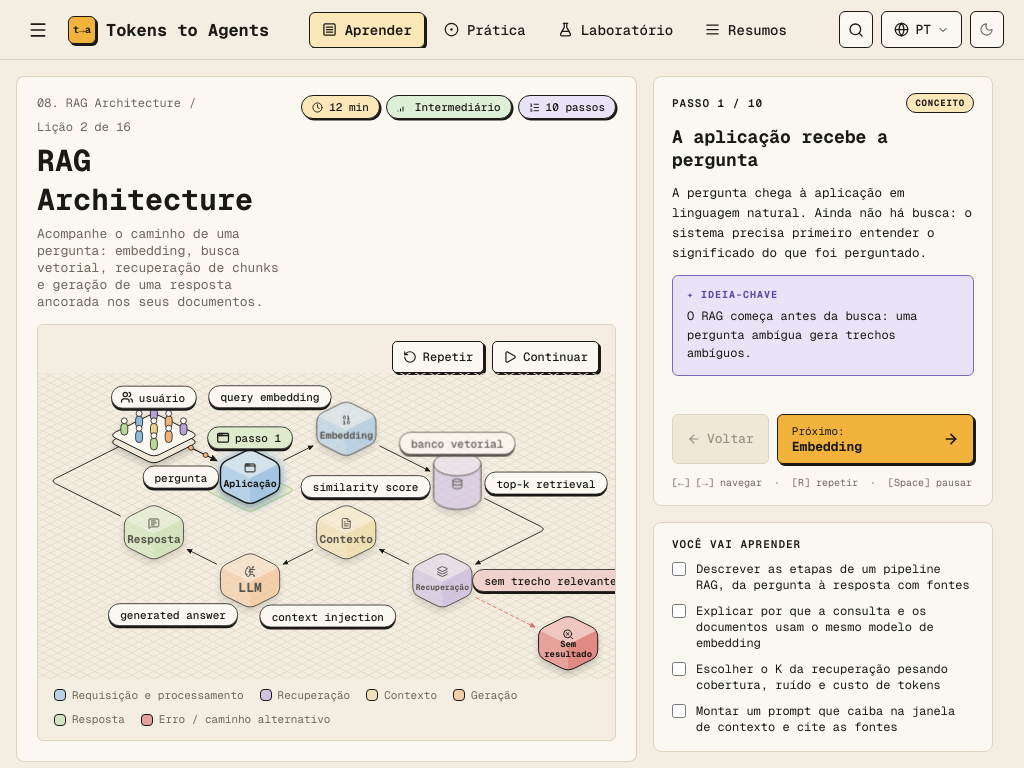
Test: App › volta ao passo anterior, e Repetir refaz a animação do passo atual sem sair dele (LES-01.7)
expect the heading "RAG Architecture" is shown: met, box [37,141,285,219]
What coordinates should you click on to do the following:
click the button "Próximo: Embedding"
I would click on:
 (875, 439)
Its box is [777,414,974,464].
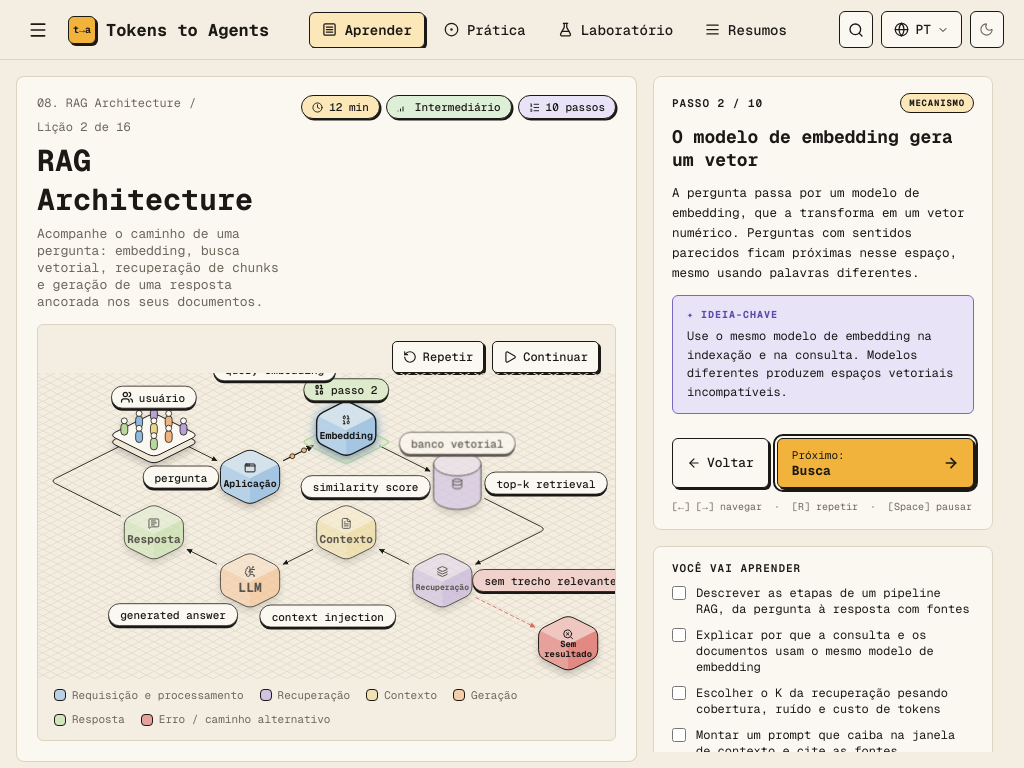
What coordinates should you click on to do the following:
click the button "Voltar"
I would click on:
 (720, 463)
Its box is [672,438,769,488].
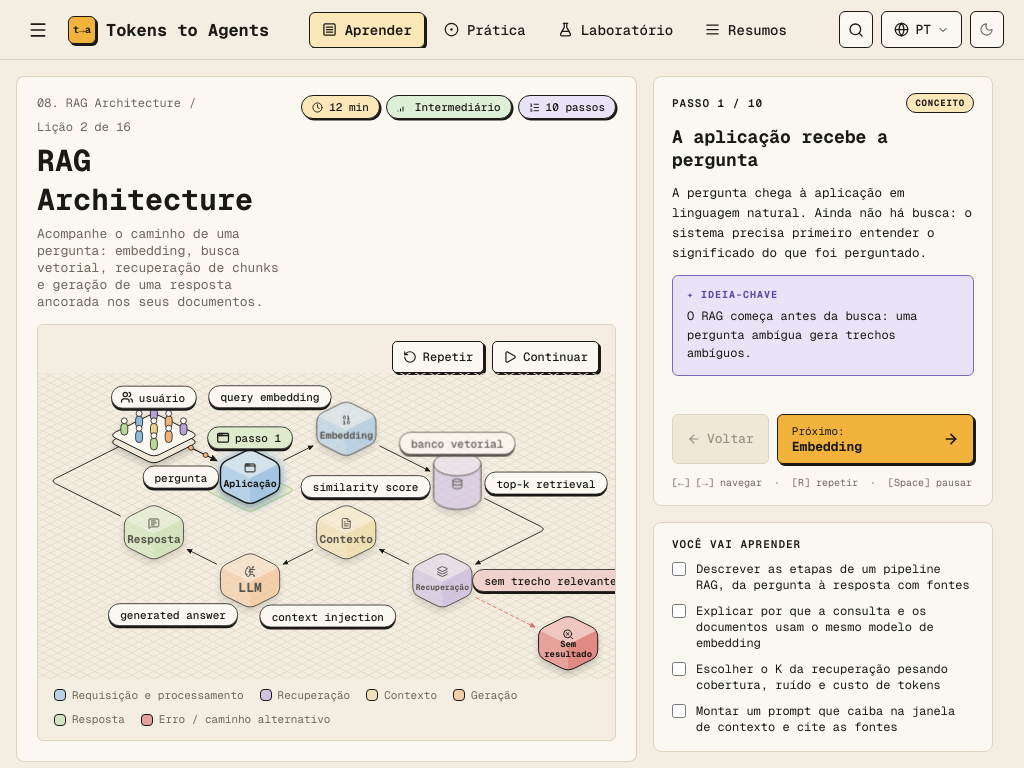
expect the text "Passo 1 / 10" is shown: met, box [672,96,763,110]
What coordinates should you click on to do the following:
click the button "Próximo: Embedding"
I would click on:
 (875, 439)
Its box is [777,414,974,464].
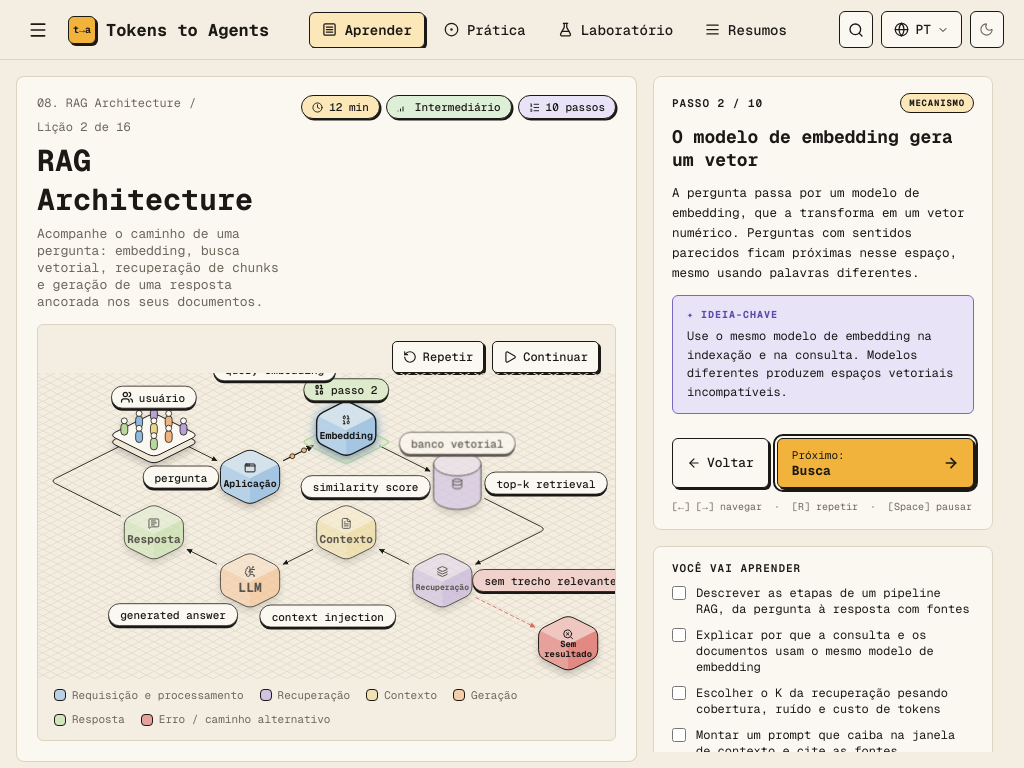
What coordinates should you click on to do the following:
click the button "Próximo: Busca"
I would click on:
 (875, 463)
Its box is [777,438,974,488].
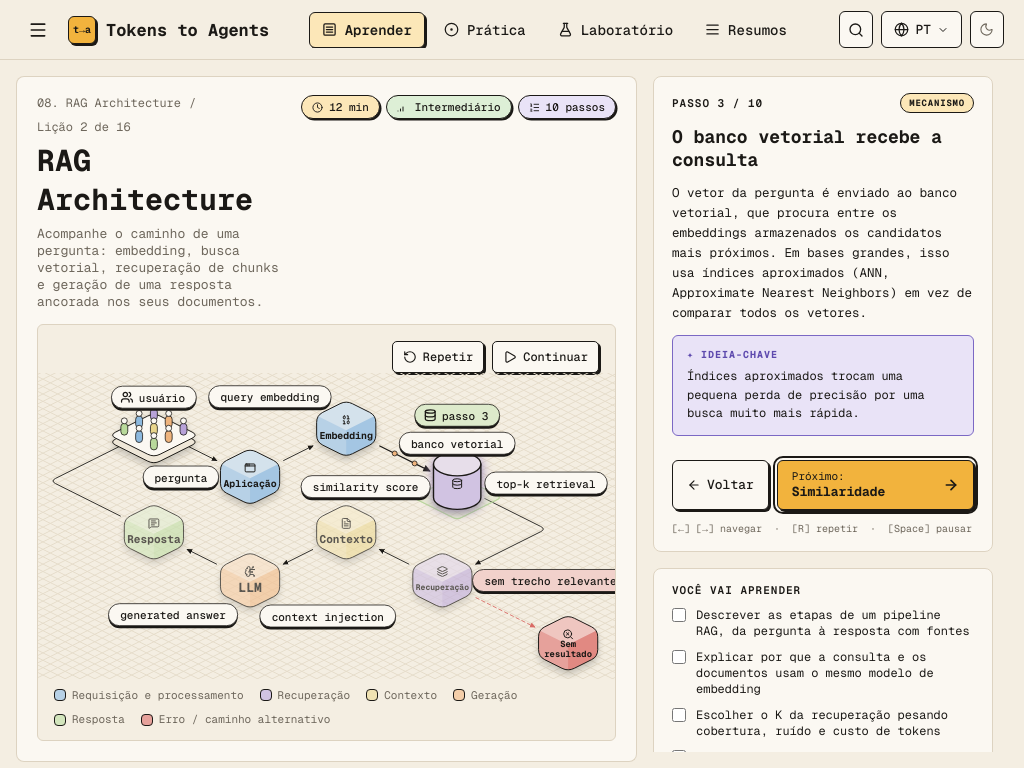
What coordinates should you click on to do the following:
click the button "Repetir"
I would click on:
 (438, 357)
Its box is [392,341,484,373].
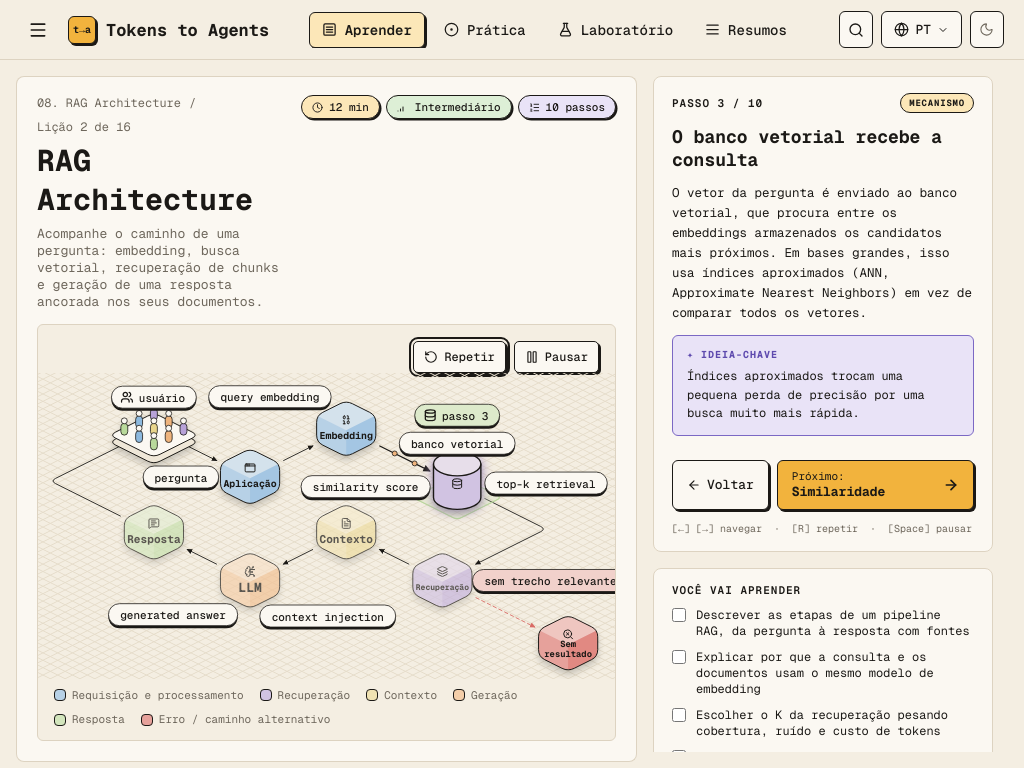
expect the text "Passo 3 / 10" is shown: met, box [672,96,763,110]
expect the button "Pausar" is shown: met, box [514,341,599,373]
